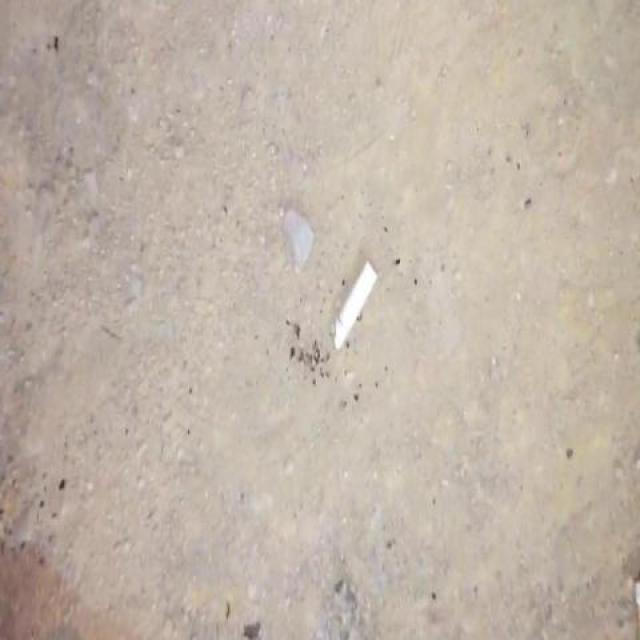non-organic waste: (324, 253, 381, 358)
